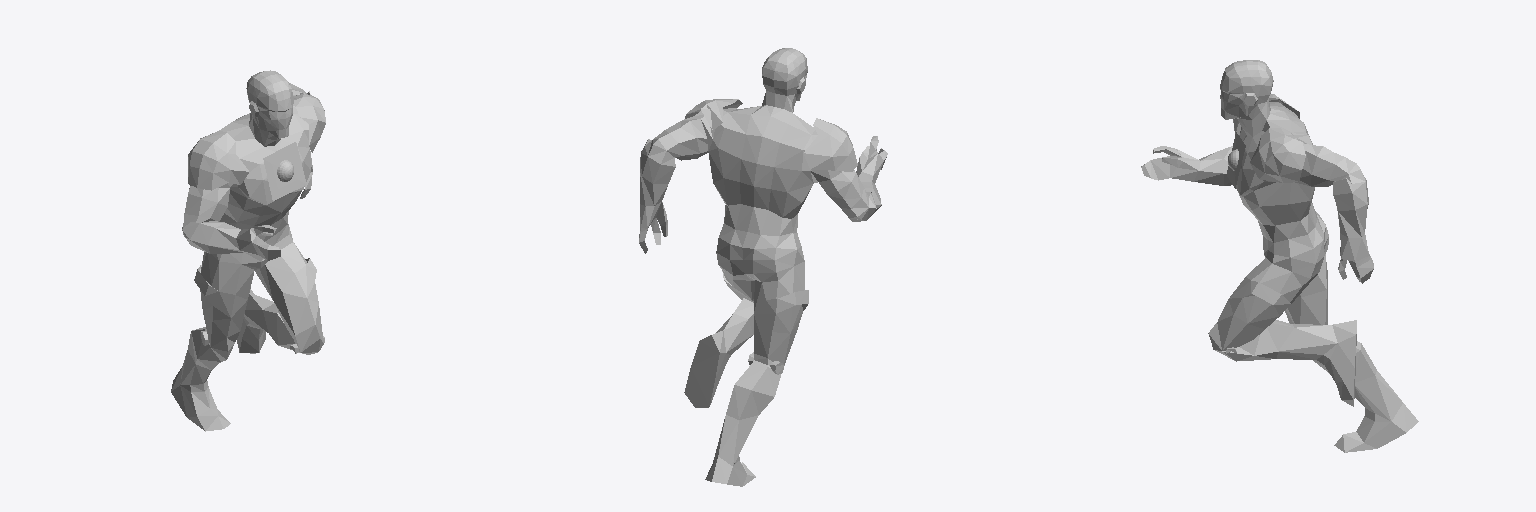
The model's file is running1.obj.
3 renders of one model, left to right at view 1: azimuth 30°, elevation 25°; view 2: azimuth 150°, elevation 25°; view 3: azimuth 270°, elevation 25°, orthographic.
Parts seen in each view (by area): view 1: M-FF_iOS_HERO_Tony_Stark_Iron_Man_Classic; view 2: M-FF_iOS_HERO_Tony_Stark_Iron_Man_Classic; view 3: M-FF_iOS_HERO_Tony_Stark_Iron_Man_Classic.
Part boxes in pixels (x1,y1,x2,y2): M-FF_iOS_HERO_Tony_Stark_Iron_Man_Classic: (171,70,325,431); M-FF_iOS_HERO_Tony_Stark_Iron_Man_Classic: (639,48,887,486); M-FF_iOS_HERO_Tony_Stark_Iron_Man_Classic: (1141,60,1418,452).
Bounding box in the file's own units: 0.9306 × 1.89 × 1.23.